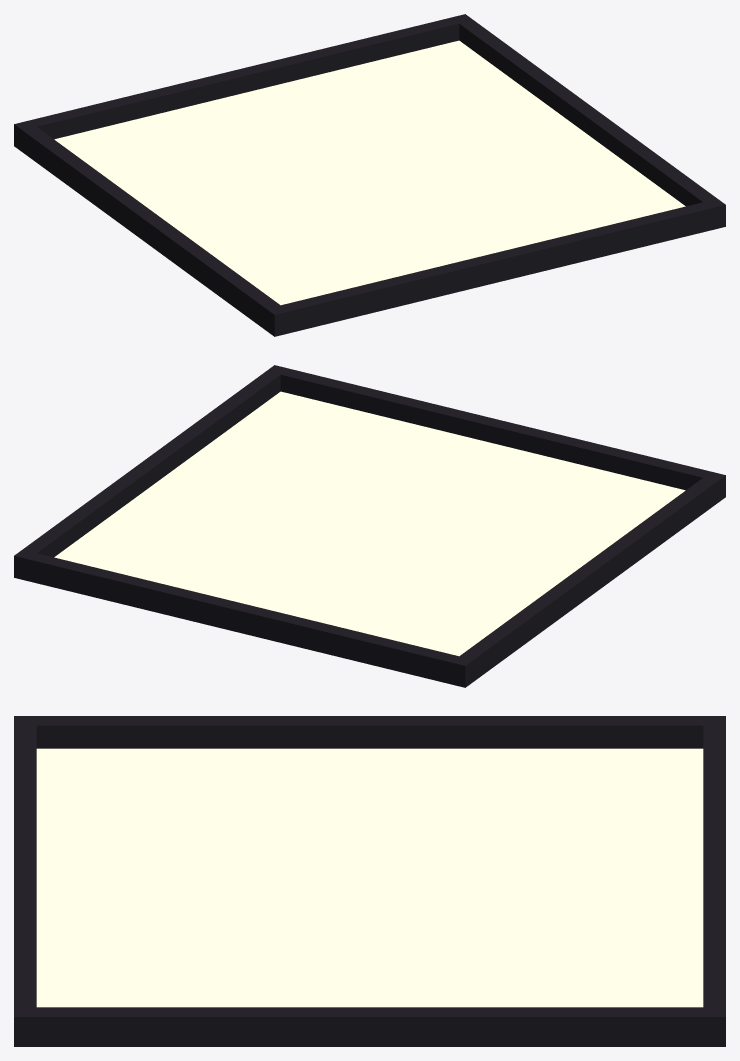
The model's file is OO_TileYellow.fbx.
3 views of the same model, one above another, from view 1: azimuth 30°, elevation 25°; view 2: azimuth 150°, elevation 25°; view 3: azimuth 270°, elevation 25° (orthographic). The views are drawn at different scales.
Visible parts, largest first — view 1: Tile_Yellow; view 2: Tile_Yellow; view 3: Tile_Yellow.
Part boxes in pixels (x1,y1,x2,y2): Tile_Yellow: [14, 14, 725, 336]; Tile_Yellow: [14, 365, 725, 687]; Tile_Yellow: [14, 716, 725, 1046].
Bounding box in the file's own units: 200 × 9.3 × 200.
